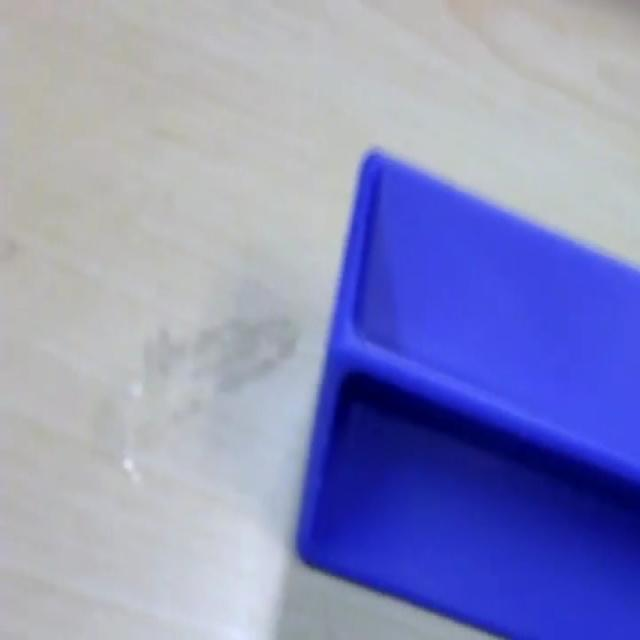blue_block: (294, 143, 638, 636)
